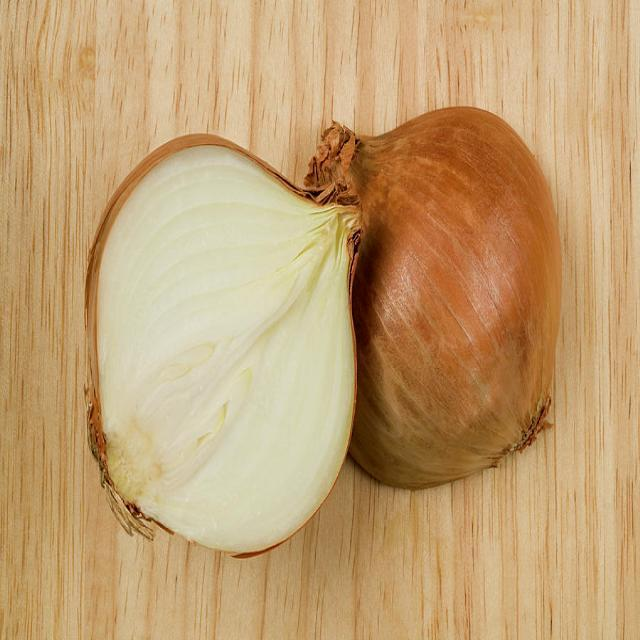onion: (82, 126, 358, 560), (310, 103, 566, 489)
